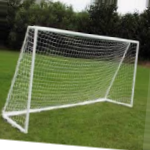goals: (1, 24, 142, 135)
